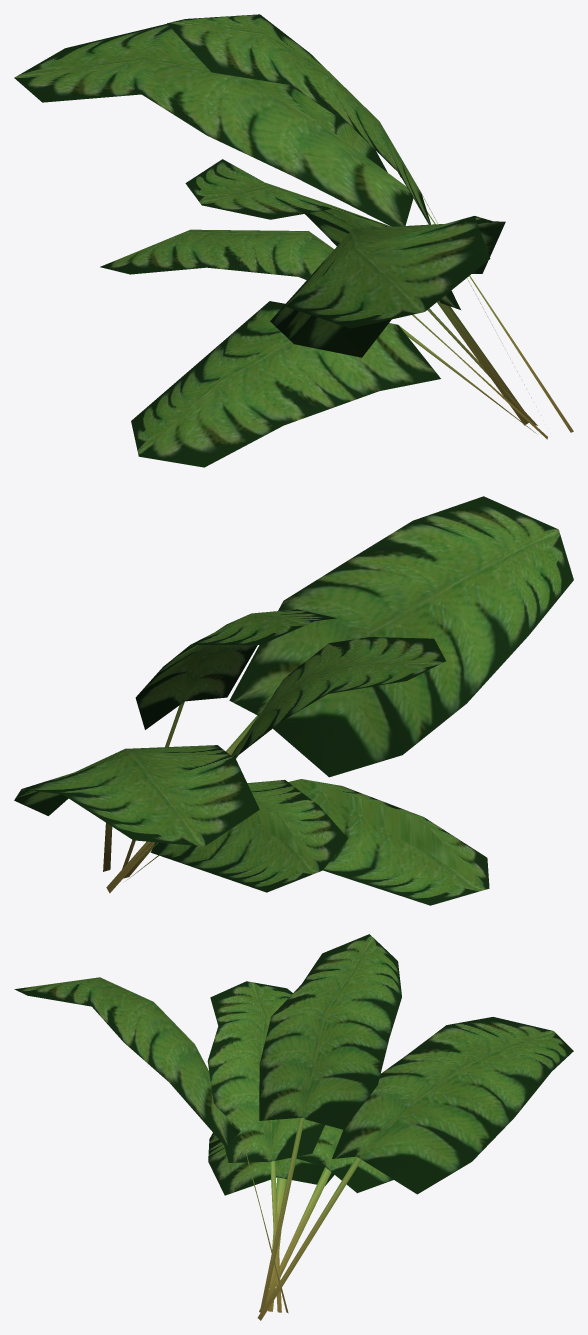
Rendered from jungle_fern_c.fbx.
3 views of the same model, one above another, from view 1: azimuth 30°, elevation 25°; view 2: azimuth 150°, elevation 25°; view 3: azimuth 270°, elevation 25° (orthographic). The views are drawn at different scales.
Parts seen in each view (by area): view 1: leaf_4, leaf_6, leaf_1, leaf_2, leaf_3, leaf_5; view 2: leaf_1, leaf_4, leaf_6, leaf_3, leaf_5, leaf_2; view 3: leaf_4, leaf_2, leaf_5, leaf_1, leaf_6, leaf_3.
Part boxes in pixels (left/top/right/bottom): leaf_4: left=14, top=24, right=573, bottom=432; leaf_6: left=131, top=301, right=536, bottom=467; leaf_1: left=270, top=216, right=528, bottom=425; leaf_2: left=167, top=14, right=531, bottom=397; leaf_3: left=100, top=229, right=547, bottom=439; leaf_5: left=185, top=159, right=537, bottom=425; leaf_1: left=106, top=496, right=573, bottom=893; leaf_4: left=14, top=745, right=259, bottom=871; leaf_6: left=126, top=779, right=489, bottom=905; leaf_3: left=123, top=780, right=347, bottom=892; leaf_5: left=134, top=637, right=445, bottom=860; leaf_2: left=122, top=609, right=336, bottom=868; leaf_4: left=257, top=1017, right=573, bottom=1320; leaf_2: left=259, top=934, right=401, bottom=1312; leaf_5: left=207, top=981, right=324, bottom=1312; leaf_1: left=14, top=977, right=288, bottom=1313; leaf_6: left=208, top=1133, right=334, bottom=1311; leaf_3: left=259, top=1125, right=393, bottom=1311.
Bounding box in the file's own units: 1200 × 1122 × 2006.
Materials: 2 (2 with a texture image).
